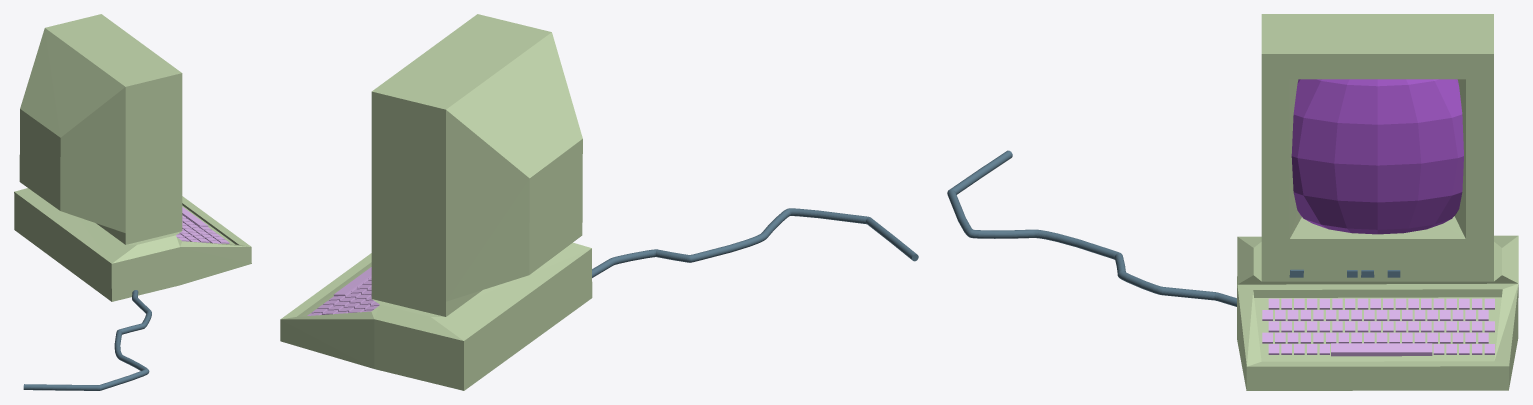
The model's file is Computer ready2.glb.
The picture shows the model from 3 angles, left to right: view 1: azimuth 30°, elevation 25°; view 2: azimuth 150°, elevation 25°; view 3: azimuth 270°, elevation 25°; orthographic projection. The views are drawn at different scales.
Visible parts, largest first — view 1: Tube-Mat.2, Sweep; view 2: Tube-Mat.2, Sweep; view 3: Tube-Mat.2, Sphere, Sweep, Cube.
Part boxes in pixels (left/top/right/bottom): Tube-Mat.2: left=14, top=14, right=251, bottom=301; Sweep: left=23, top=290, right=151, bottom=390; Tube-Mat.2: left=280, top=14, right=592, bottom=390; Sweep: left=592, top=208, right=918, bottom=277; Tube-Mat.2: left=1237, top=14, right=1518, bottom=390; Sphere: left=1291, top=79, right=1463, bottom=234; Sweep: left=947, top=150, right=1236, bottom=306; Cube: left=1331, top=343, right=1432, bottom=356.
Size of the model in its own units: 2.45 by 1.53 by 2.7.
